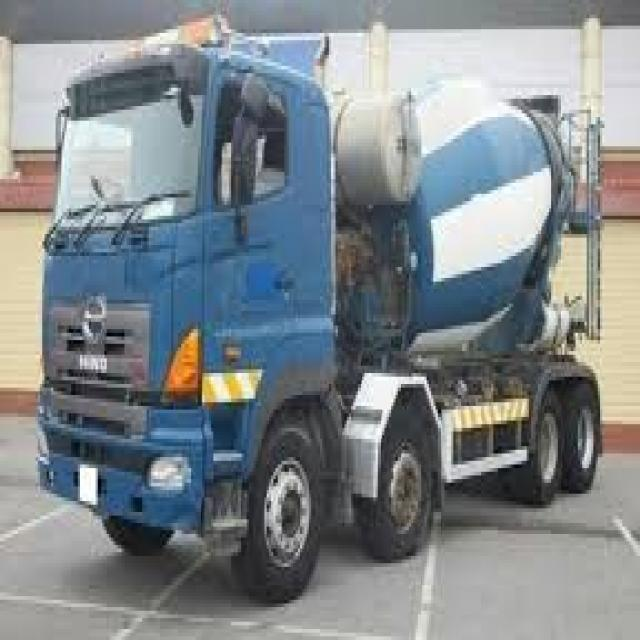Mixer Truck: (34, 35, 604, 608)
